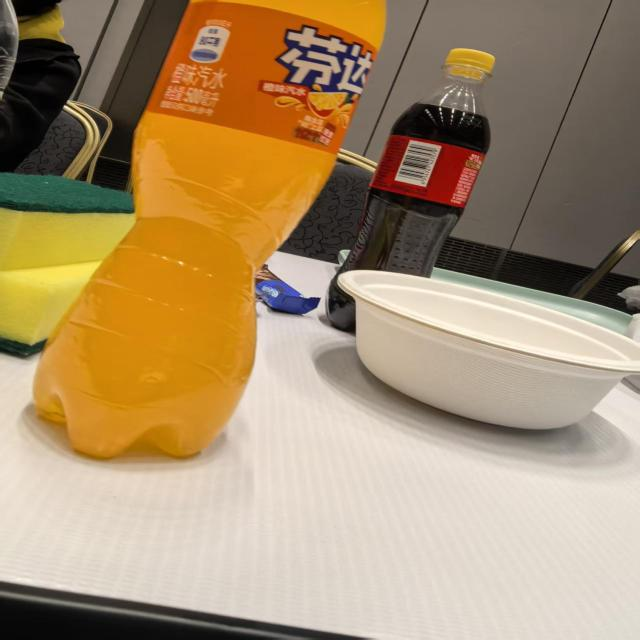orange: (253, 8, 383, 110)
